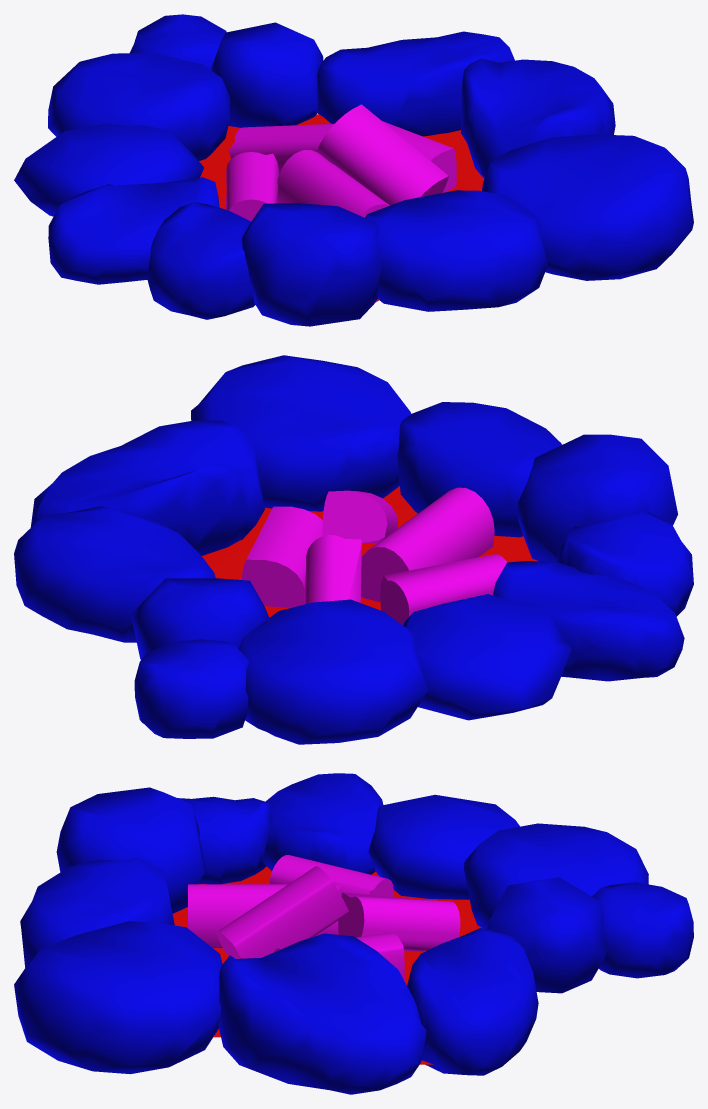
File: Fire_camp.fbx
The picture shows the model from 3 angles, top to bottom: view 1: azimuth 30°, elevation 25°; view 2: azimuth 150°, elevation 25°; view 3: azimuth 270°, elevation 25°; orthographic projection. The views are drawn at different scales.
Parts seen in each view (by area): view 1: bolder26, Fire_camp_pCylinder30, pCube37; view 2: bolder26, Fire_camp_pCylinder30, pCube37; view 3: bolder26, Fire_camp_pCylinder30, pCube37.
Boxes of the visible parts, left/top/right/bottom form: bolder26: left=14, top=14, right=693, bottom=326; Fire_camp_pCylinder30: left=225, top=104, right=456, bottom=221; pCube37: left=199, top=114, right=484, bottom=302; bolder26: left=14, top=355, right=693, bottom=744; Fire_camp_pCylinder30: left=241, top=487, right=507, bottom=625; pCube37: left=202, top=486, right=538, bottom=617; bolder26: left=14, top=773, right=693, bottom=1094; Fire_camp_pCylinder30: left=188, top=855, right=460, bottom=980; pCube37: left=172, top=866, right=481, bottom=1064.
Bounding box in the file's own units: 1.48 × 0.2607 × 1.53.
